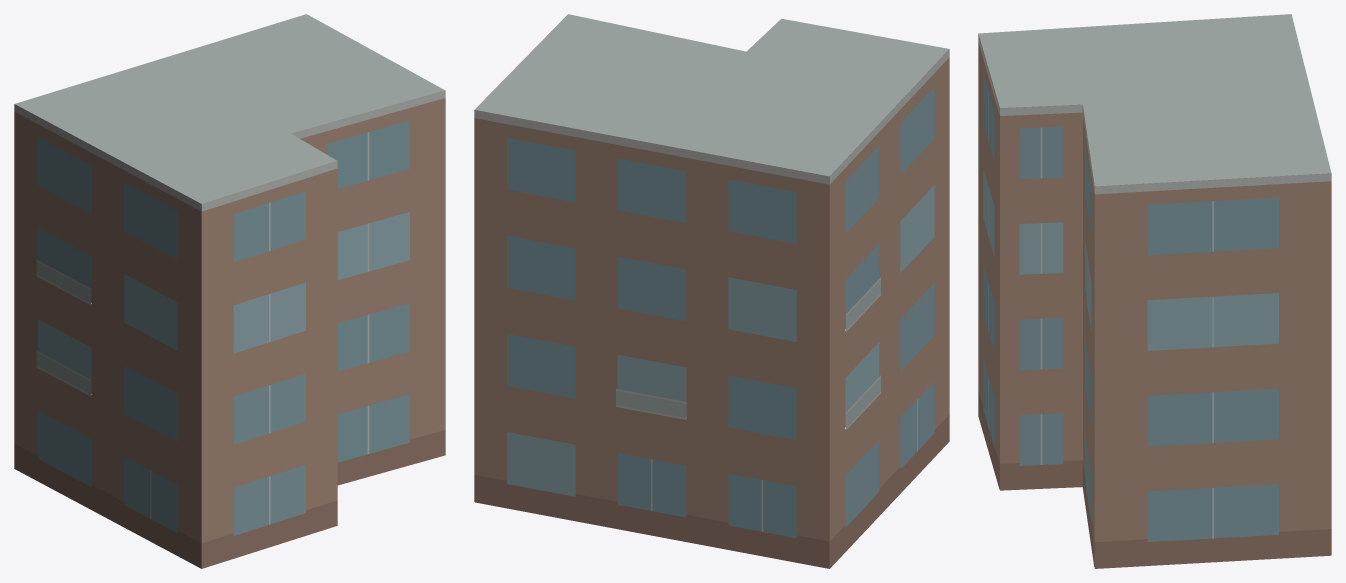
File: survey-upis-32969165.glb
3 renders of one model, left to right at view 1: azimuth 30°, elevation 25°; view 2: azimuth 150°, elevation 25°; view 3: azimuth 270°, elevation 25°, orthographic. The views are drawn at different scales.
Parts seen in each view (by area): view 1: survey-upis-32969165.tmp; view 2: survey-upis-32969165.tmp; view 3: survey-upis-32969165.tmp.
Boxes of the visible parts, x1,y1,x2,y2 form: survey-upis-32969165.tmp: [14, 14, 445, 568]; survey-upis-32969165.tmp: [474, 14, 949, 568]; survey-upis-32969165.tmp: [978, 14, 1331, 568].
Bounding box in the file's own units: 11.33 × 11.7 × 9.8.
